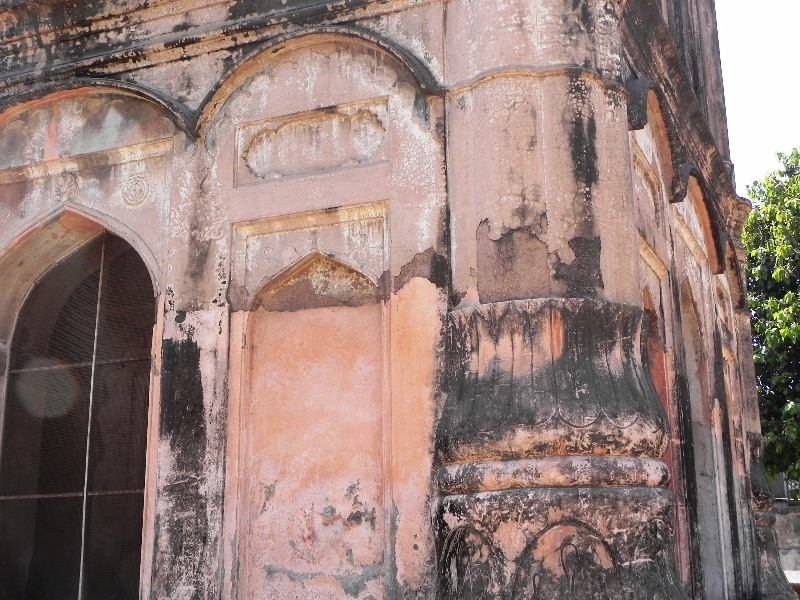Spalling: (223, 279, 396, 310), (400, 242, 449, 293)
